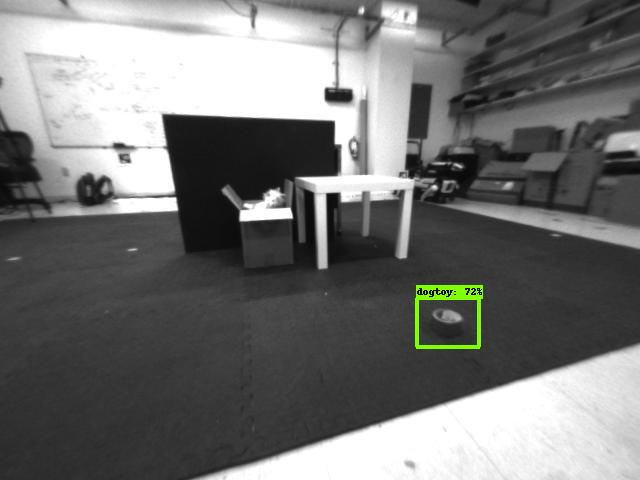dogtoy: (415, 295, 482, 357)
